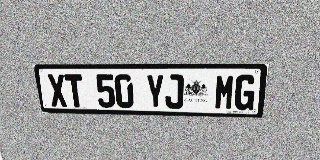0: (114, 74, 134, 108)
5: (95, 74, 116, 108)
G: (234, 74, 257, 110)
J: (165, 74, 184, 109)
M: (214, 74, 236, 110)
T: (64, 74, 85, 107)
X: (46, 74, 68, 107)
Y: (145, 74, 164, 109)
